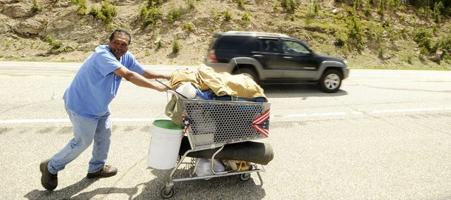person: (39, 30, 173, 193)
